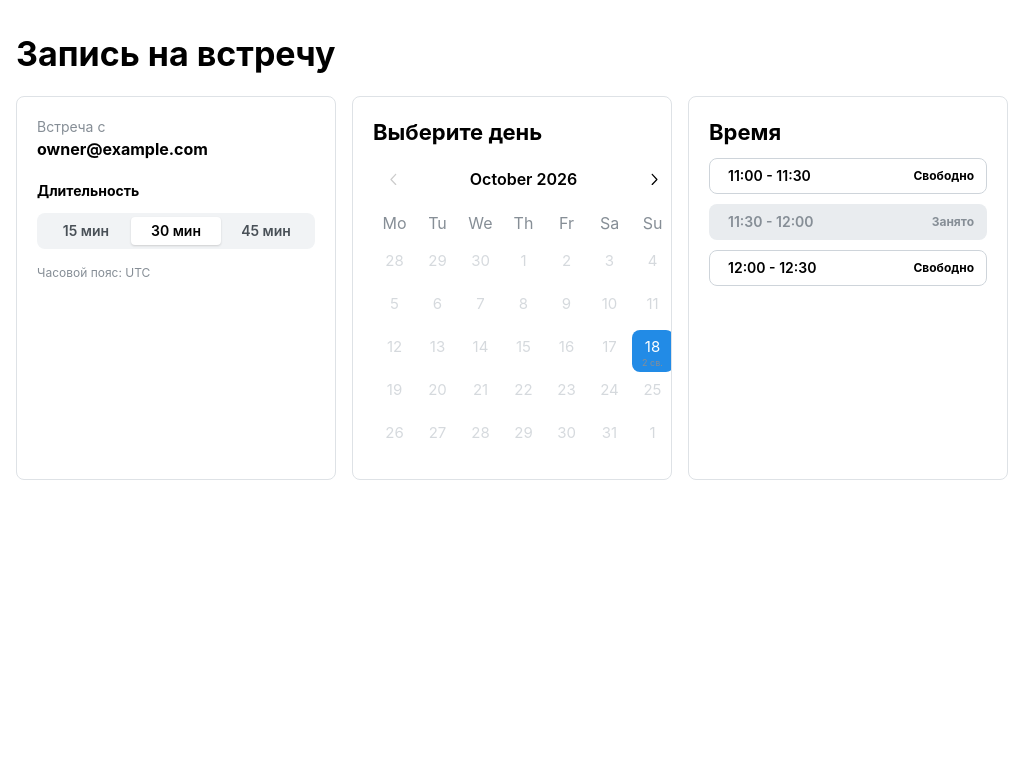
гостевая страница: календарь владельца › 409 — сообщение и обновлённая лестница вместо потерянной брони
Step 1. Click the button "11:00 - 11:30 Свободно" → coordinates (769, 175), box [709,158,987,194]
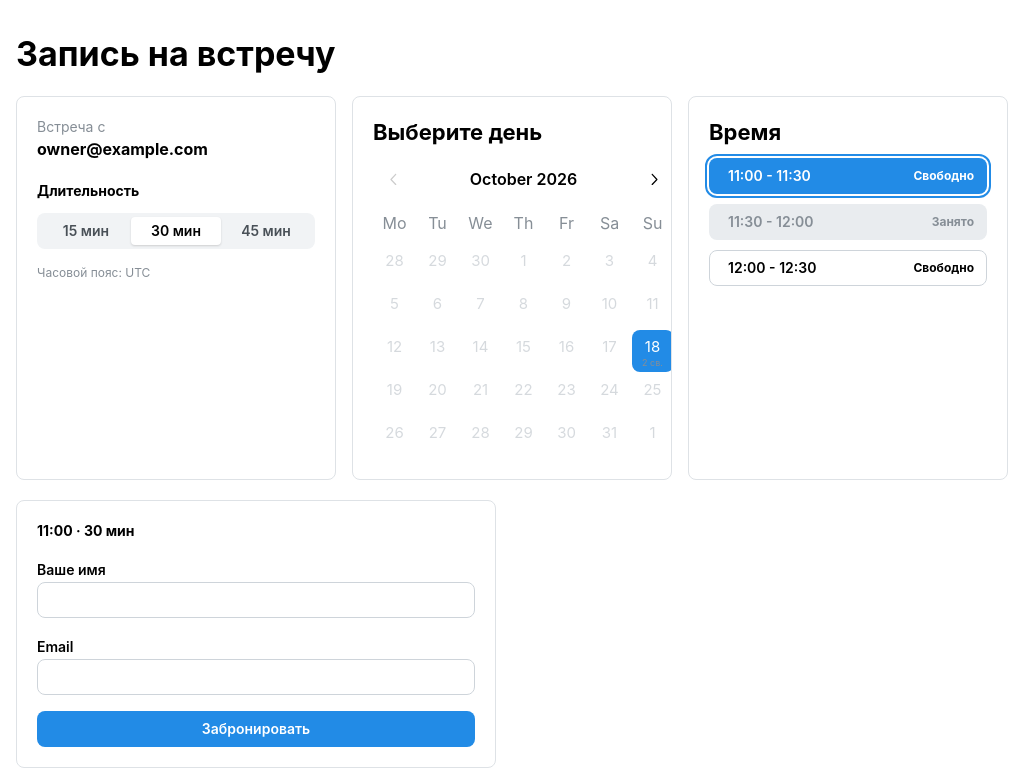
Step 2. Type "Гость" into the field labelled "Ваше имя" → coordinates (256, 600), box [37,582,475,618]
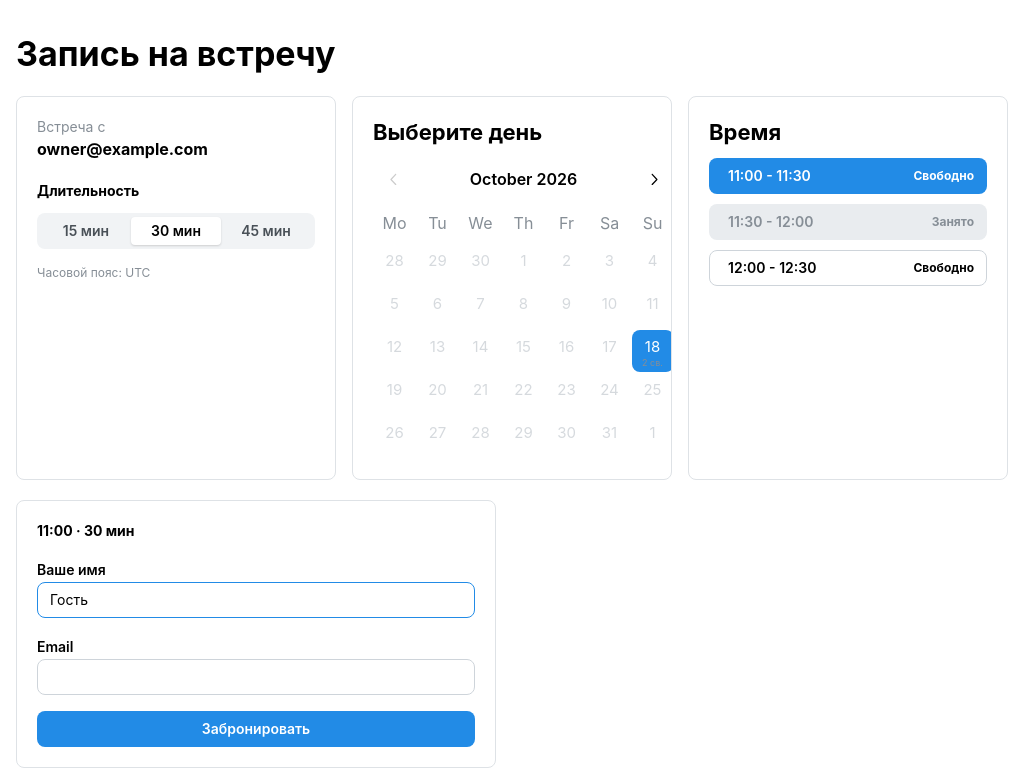
Step 3. Type "guest@example.com" into the field labelled "Email" → coordinates (256, 677), box [37,659,475,695]
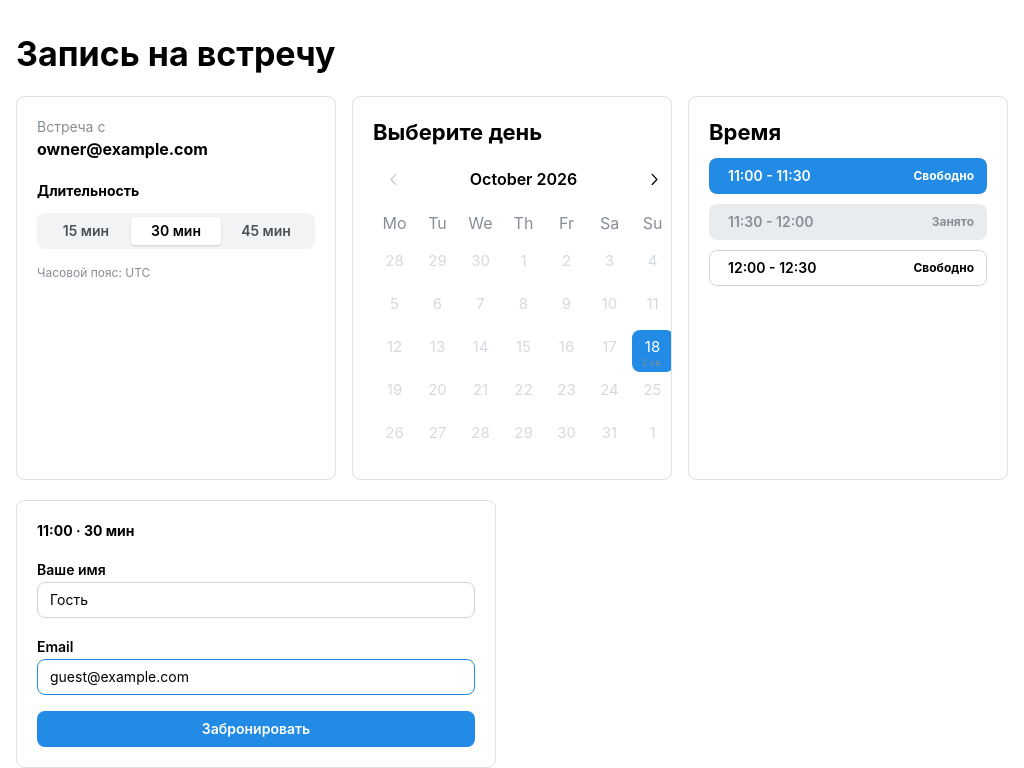
Step 4. Click the button "Забронировать" → coordinates (256, 729), box [37,711,475,747]
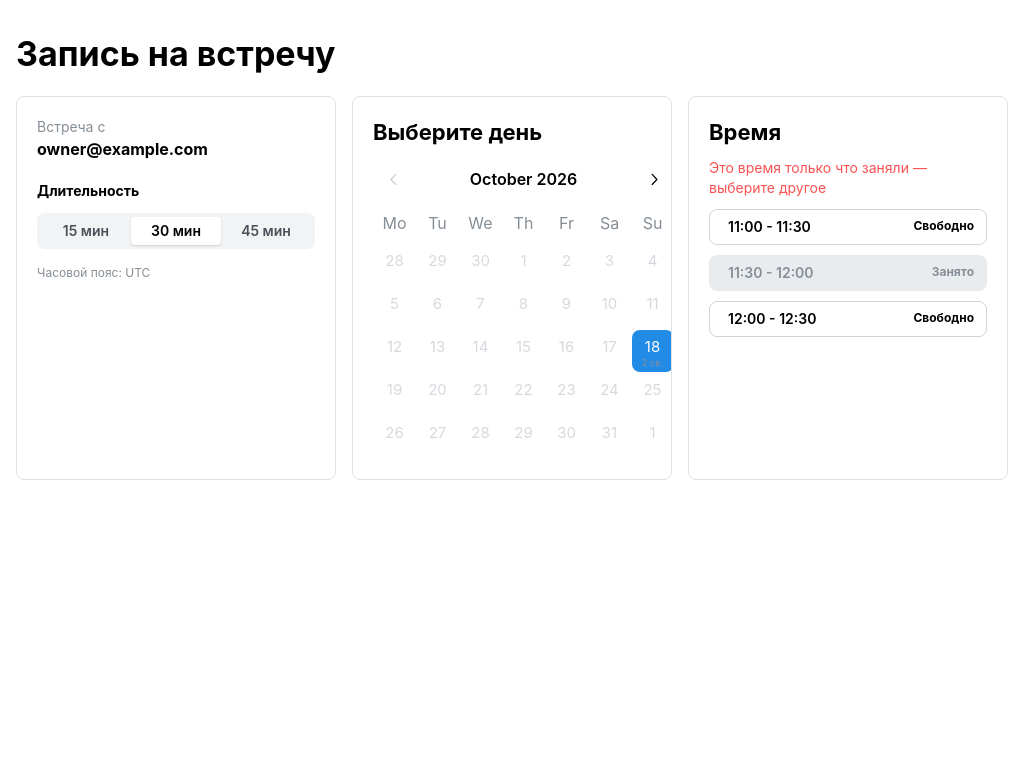
Expected: the button "11:00 - 11:30 Свободно" is shown, [709,209,987,245]
Expected: the text "Это время только что заняли — выберите другое" is shown, [709,159,927,196]
